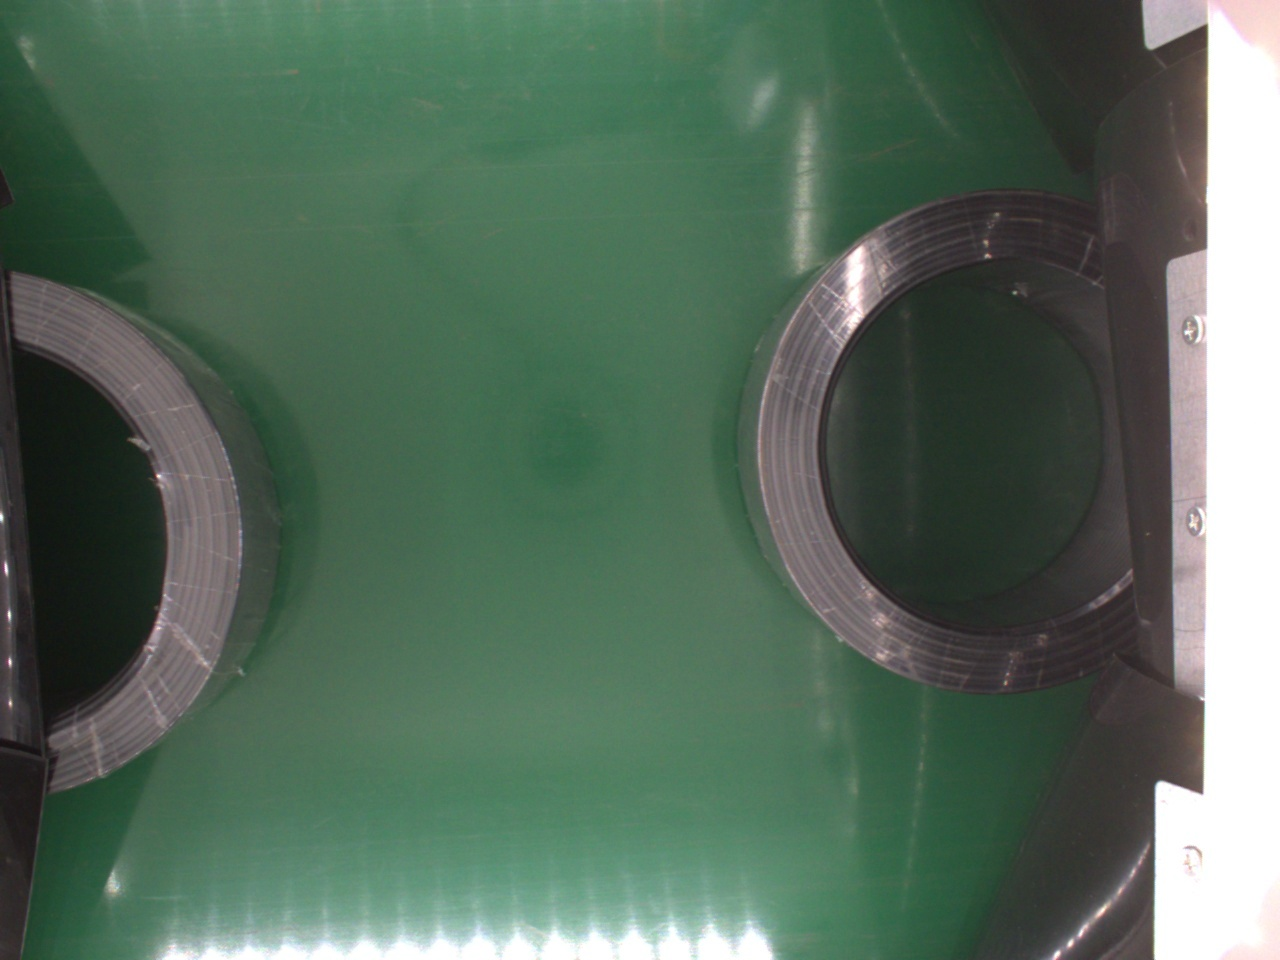black: (733, 185, 1148, 695), (5, 270, 281, 792)
